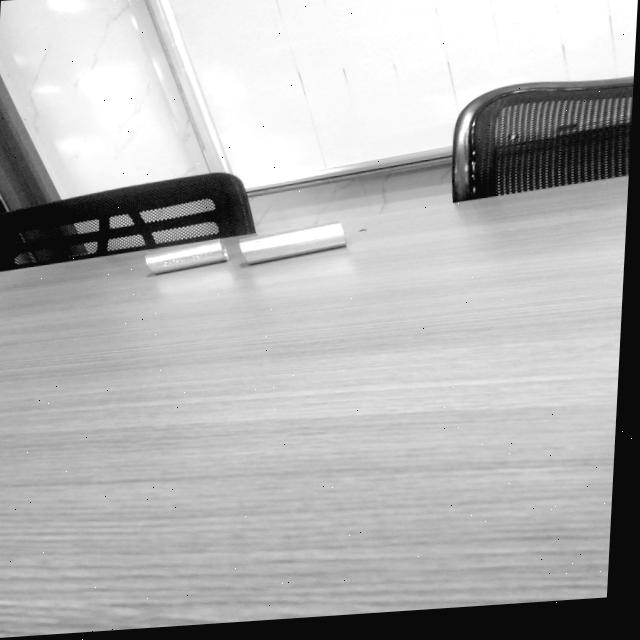Co_Lon: (238, 219, 346, 265)
Co_Nho: (143, 236, 228, 275)
